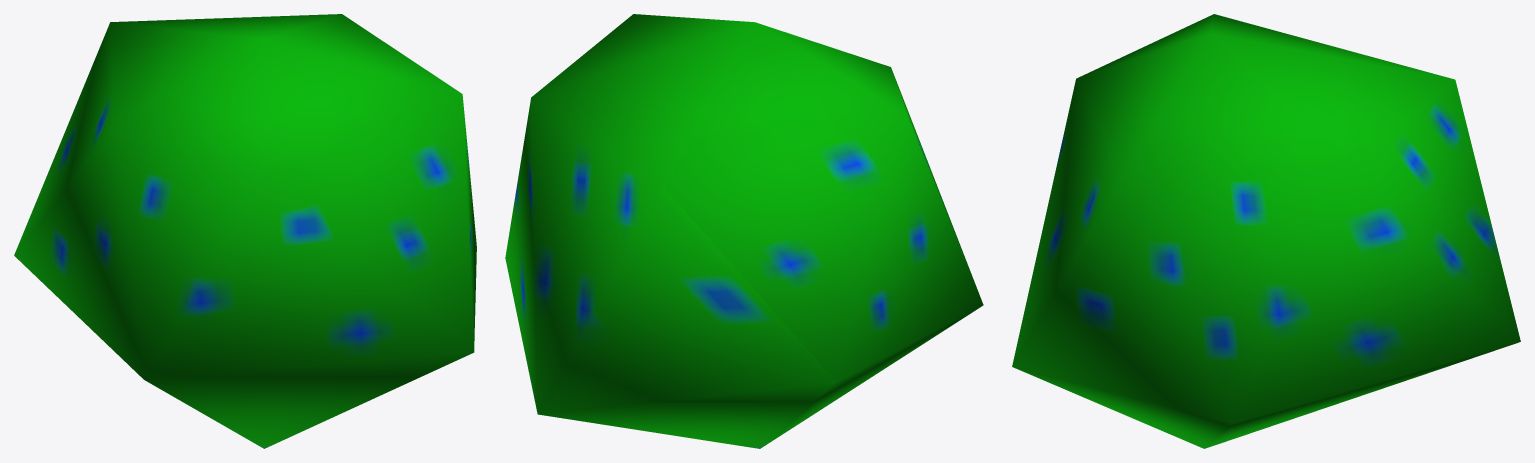
File: Bush.fbx
3 views of the same model, side by side, from view 1: azimuth 30°, elevation 25°; view 2: azimuth 150°, elevation 25°; view 3: azimuth 270°, elevation 25° (orthographic). The views are drawn at different scales.
Visible parts, largest first — view 1: Bush; view 2: Bush; view 3: Bush.
Boxes of the visible parts, left/top/right/bottom form: Bush: left=14, top=14, right=476, bottom=448; Bush: left=505, top=14, right=983, bottom=448; Bush: left=1012, top=14, right=1520, bottom=448.
Size of the model in its own units: 39.87 by 36.46 by 35.99.
1 material, 1 textured.
